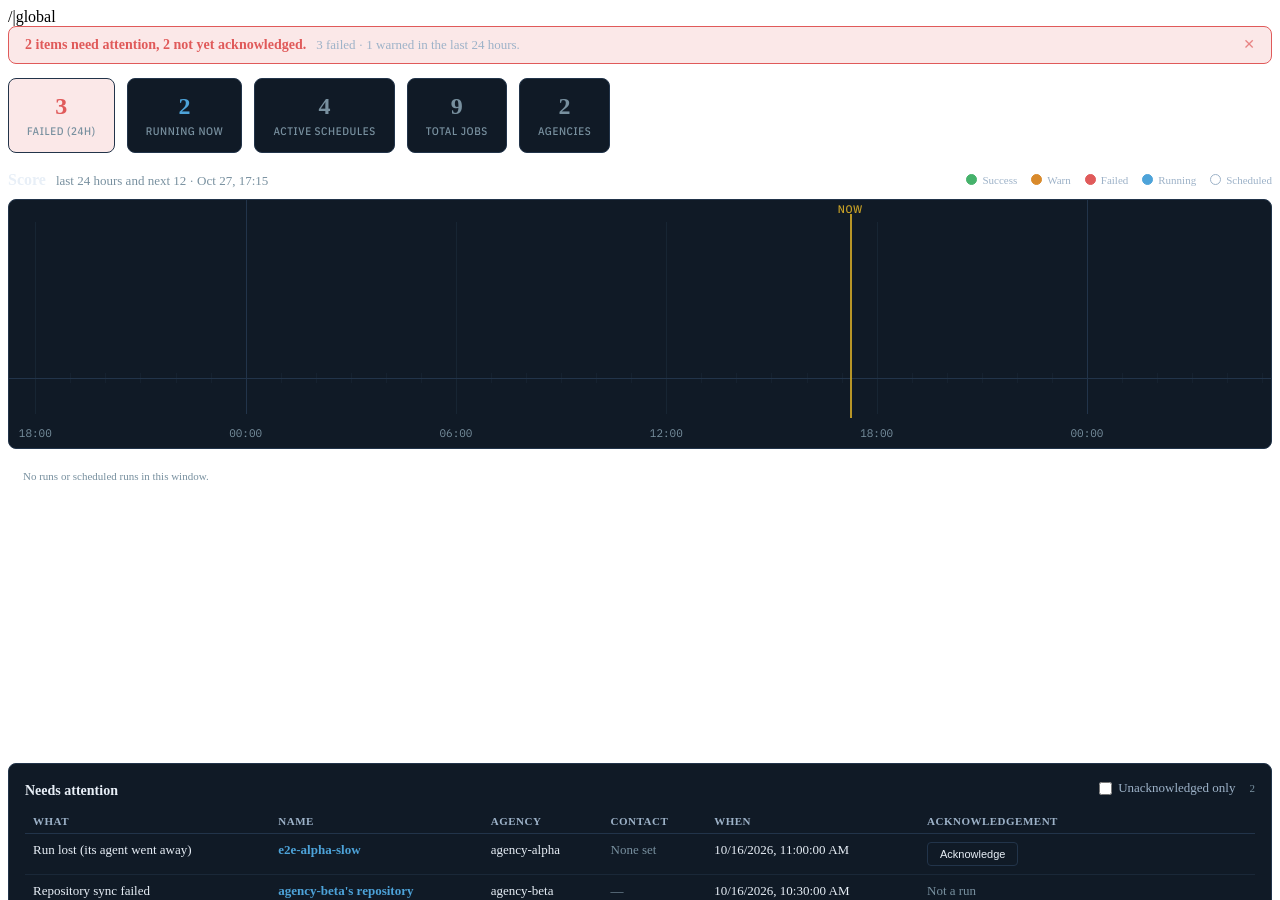
the Operations overview (2.4.4 F3) › is the Dashboard: the strip, the five tiles summed over agencies, and Needs attention above Agencies (2.5.2 OP-22)
// Dismissed, the strip stays away until the situation changes.
Click the button named "Dismiss this alert until something changes".
click(1243, 44)  # box [1231,37,1255,51]
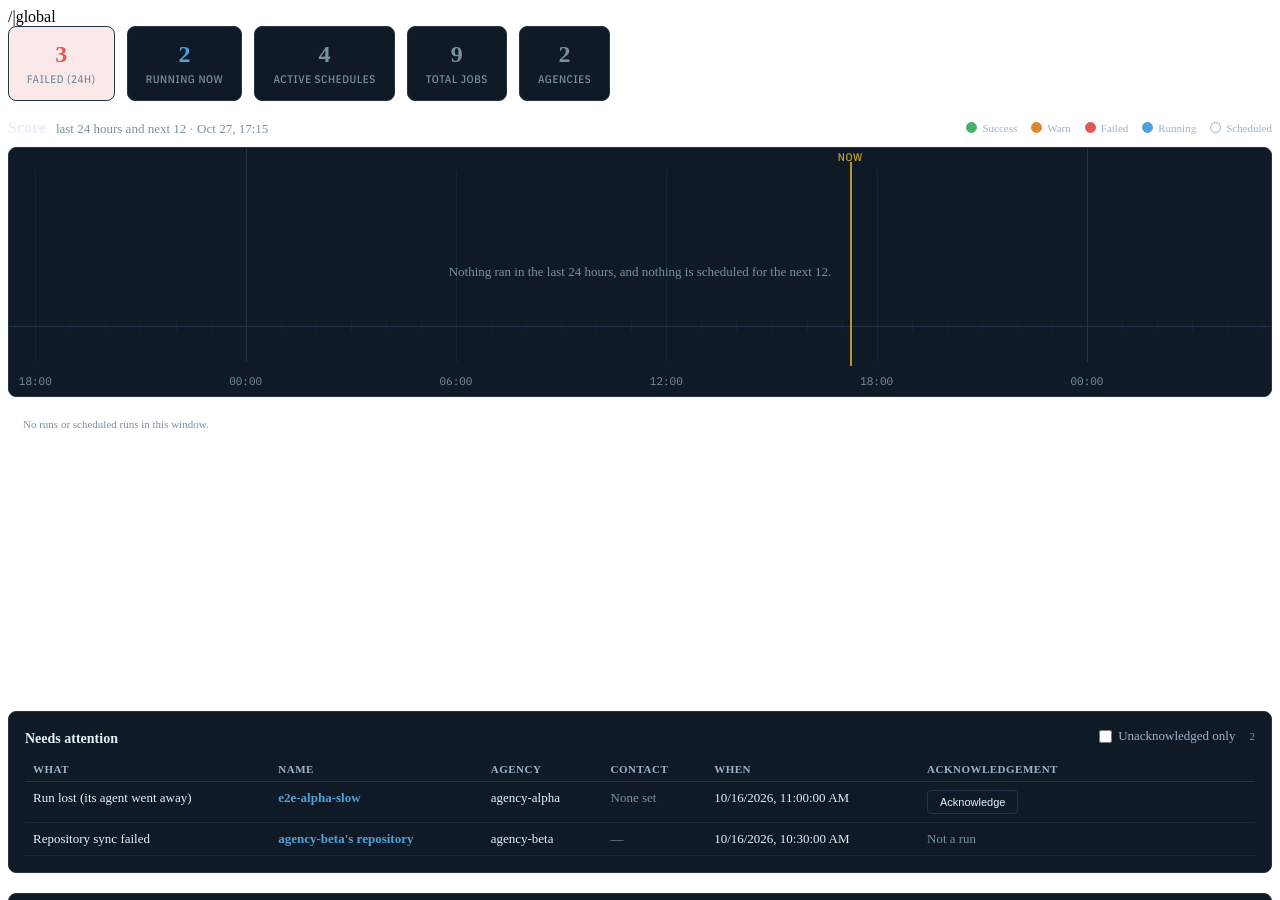
Expected: the field labelled "Status" is gone
